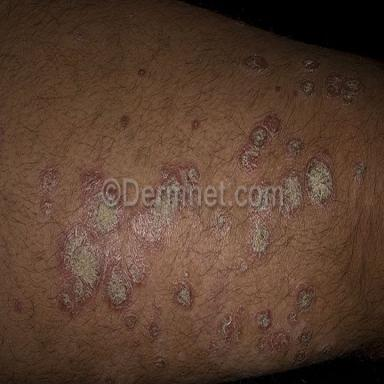Psoriasis: (59, 173, 178, 313), (239, 114, 281, 174), (305, 152, 335, 211), (245, 208, 271, 262), (324, 72, 364, 105), (287, 283, 315, 327), (279, 168, 303, 219), (40, 168, 60, 218), (219, 306, 244, 344), (161, 163, 200, 187), (258, 327, 290, 353), (171, 272, 194, 308), (210, 207, 231, 244), (241, 54, 269, 73), (352, 155, 366, 186), (254, 309, 272, 331), (285, 138, 303, 157), (299, 80, 316, 98), (300, 59, 319, 72), (299, 329, 312, 347), (149, 319, 160, 339), (293, 350, 307, 365), (124, 314, 137, 330), (154, 357, 166, 370), (239, 261, 248, 272)
